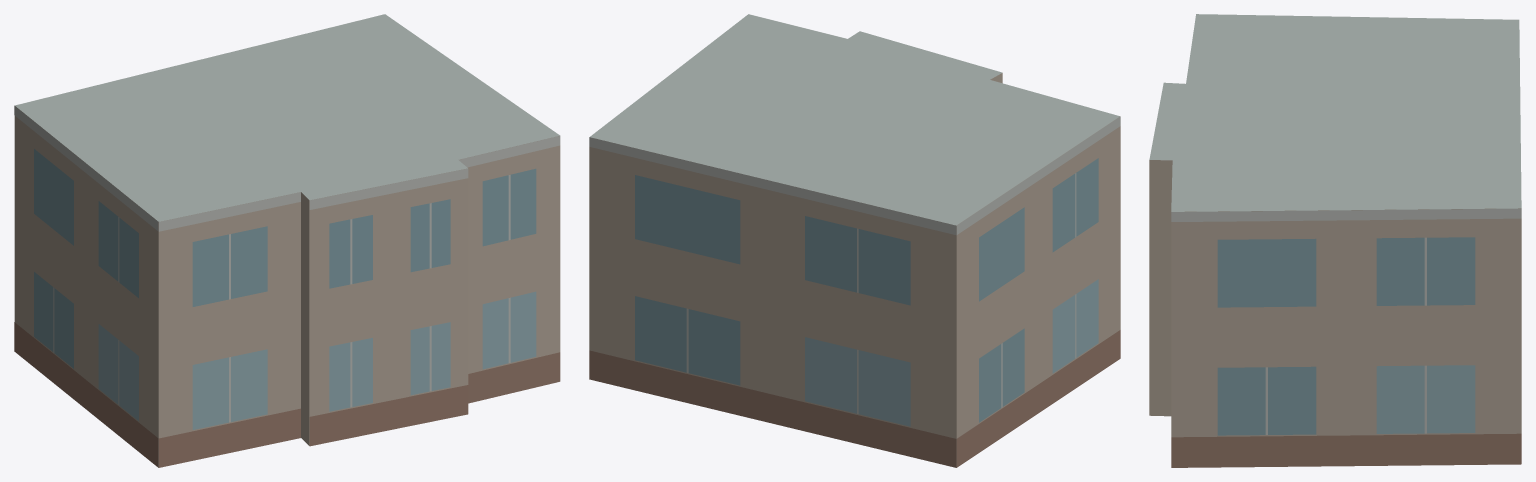
Rendered from survey-upis-32805670.glb.
The picture shows the model from 3 angles, left to right: view 1: azimuth 30°, elevation 25°; view 2: azimuth 150°, elevation 25°; view 3: azimuth 270°, elevation 25°; orthographic projection. The views are drawn at different scales.
Parts seen in each view (by area): view 1: survey-upis-32805670.tmp; view 2: survey-upis-32805670.tmp; view 3: survey-upis-32805670.tmp.
Part boxes in pixels (box(x1,y1,x2,y2)): survey-upis-32805670.tmp: box(14, 14, 560, 467); survey-upis-32805670.tmp: box(589, 14, 1120, 467); survey-upis-32805670.tmp: box(1149, 14, 1521, 467).
Bounding box in the file's own units: 10.13 × 6.1 × 8.05.
